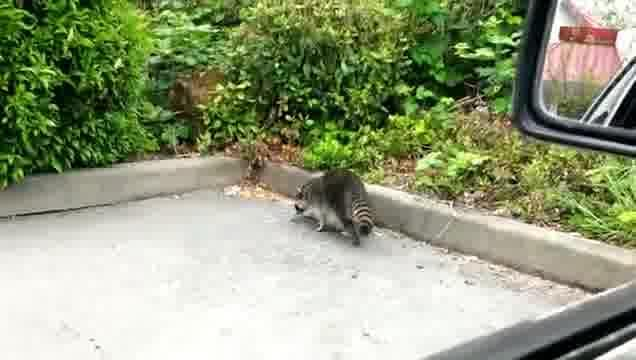raccoon: (292, 167, 376, 246)
